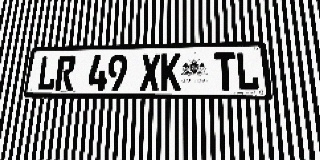4: (87, 55, 109, 91)
9: (107, 54, 128, 91)
K: (160, 53, 181, 91)
L: (235, 52, 260, 91), (36, 56, 58, 91)
R: (54, 55, 76, 91)
T: (214, 52, 237, 91)
X: (140, 54, 160, 91)
